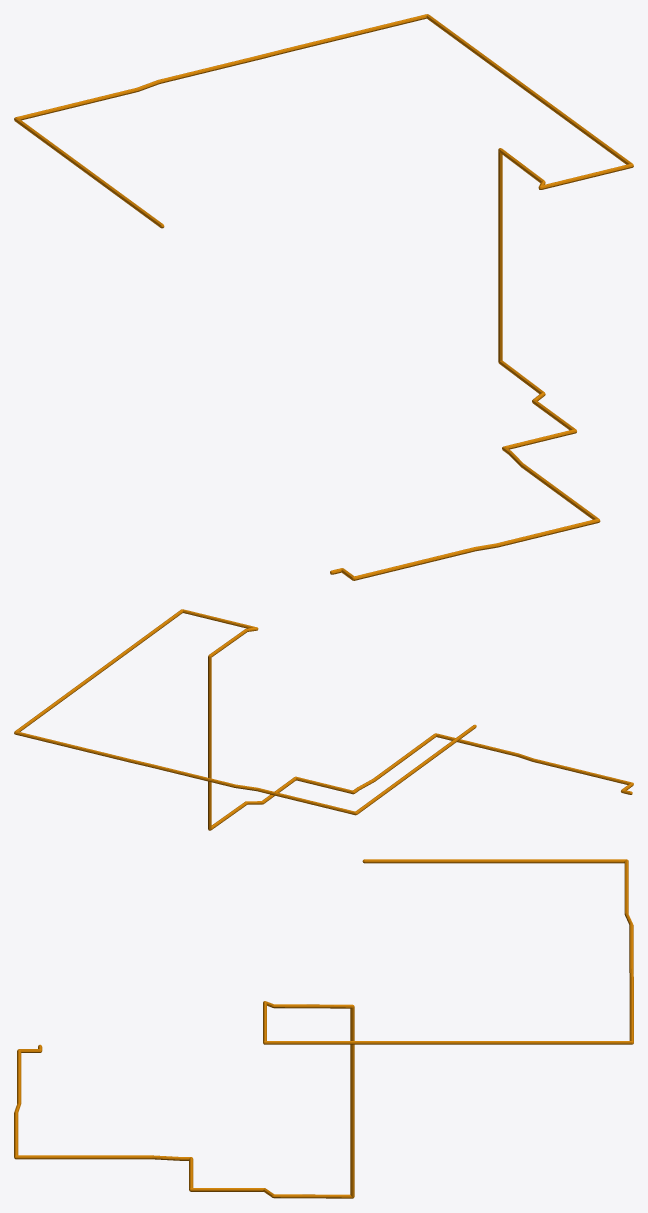
The picture shows the model from 3 angles, top to bottom: view 1: azimuth 30°, elevation 25°; view 2: azimuth 150°, elevation 25°; view 3: azimuth 270°, elevation 25°; orthographic projection. The views are drawn at different scales.
Size of the model in its own units: 2121 by 1020 by 2957.
